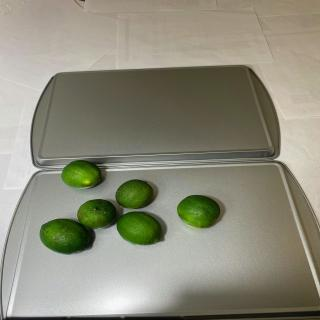Lemon: (39, 218, 91, 255), (116, 211, 162, 246), (177, 194, 220, 228), (77, 199, 116, 229), (115, 179, 154, 209), (61, 160, 101, 189)
